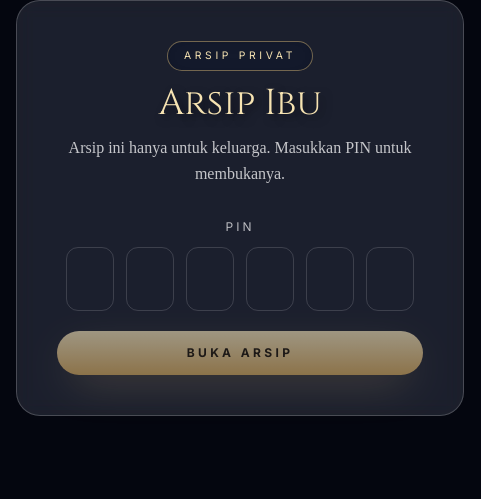
Test case: ArchivePinGate (six-digit) › handles status 429 with an honest, generic message
Type "1" into the password field named "Digit PIN ke-1" at (90, 279), box [66,247,114,311]
Type "3" into the password field named "Digit PIN ke-2" at (150, 279), box [126,247,174,311]
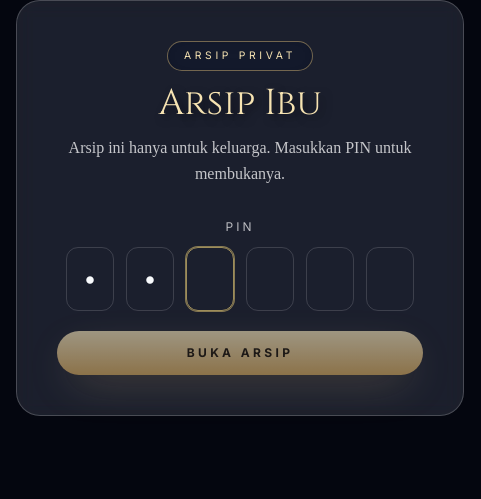
Type "5" into the password field named "Digit PIN ke-3" at (210, 279), box [186,247,234,311]
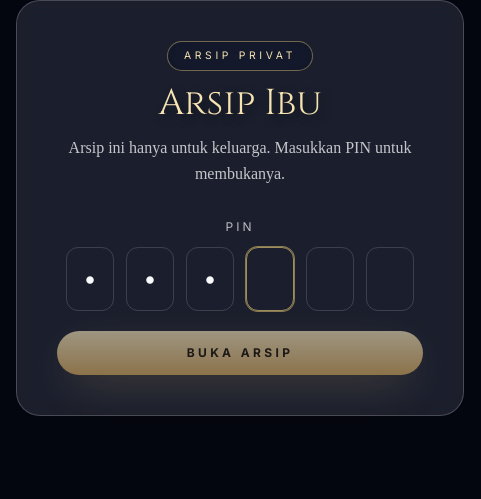
Type "7" into the password field named "Digit PIN ke-4" at (270, 279), box [246,247,294,311]
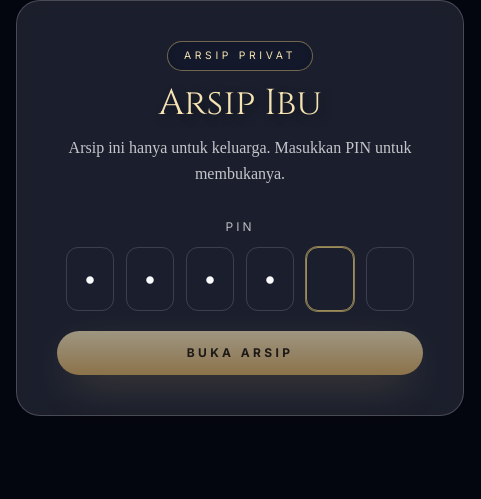
Type "9" into the password field named "Digit PIN ke-5" at (330, 279), box [306,247,354,311]
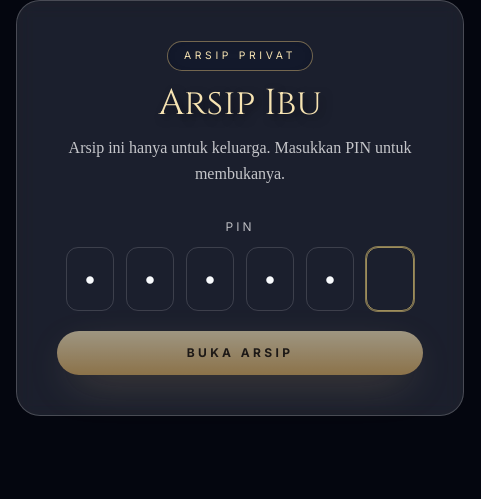
Type "0" into the password field named "Digit PIN ke-6" at (390, 279), box [366,247,414,311]
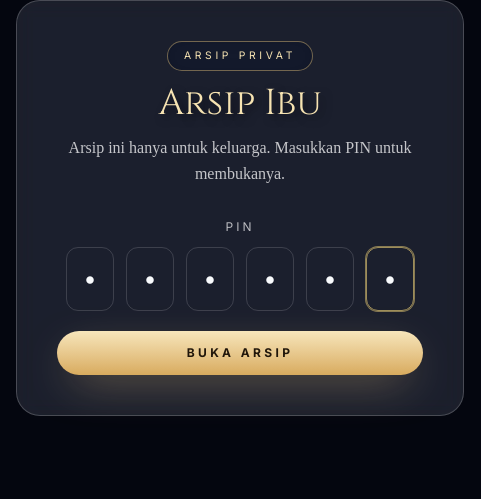
Click the button "Buka Arsip" at (240, 353), box [57,331,423,375]
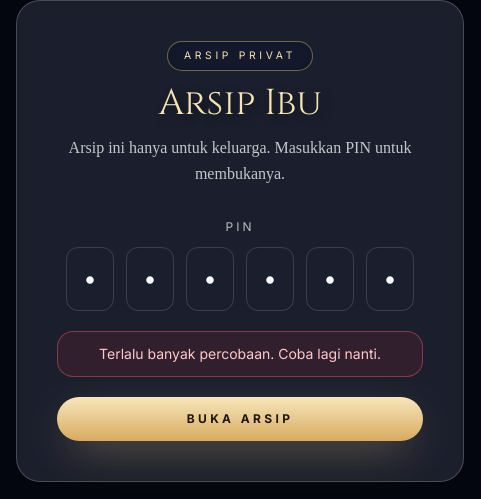
Expected: the message reads "Terlalu banyak percobaan. Coba lagi nanti.", [99,345,381,362]
